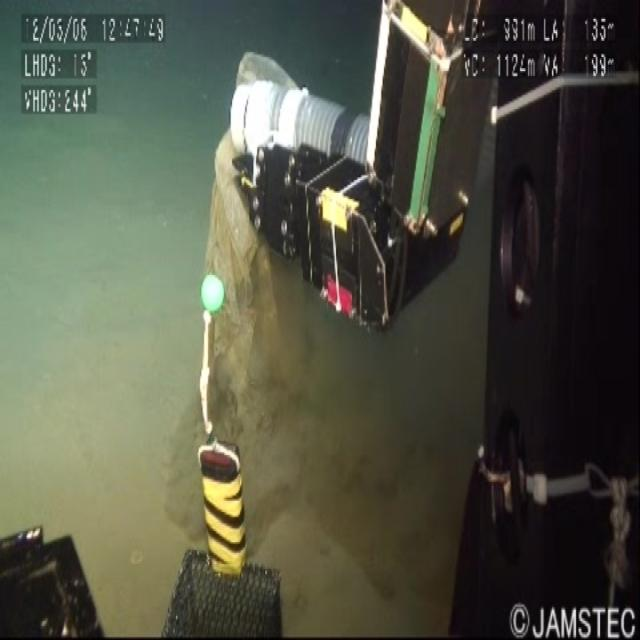Plastic: (200, 132, 280, 428)
